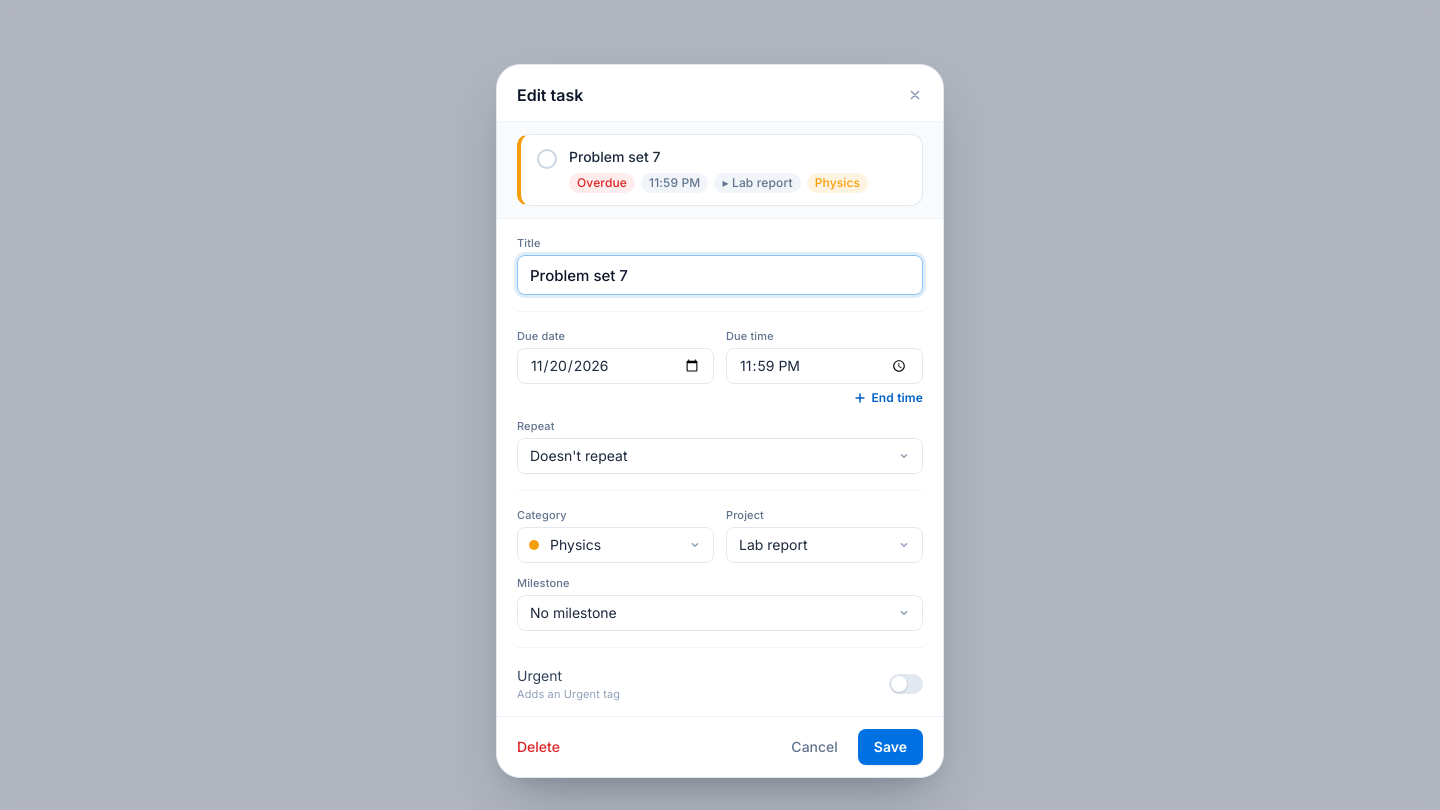
Test case: Edit item (desktop) › previews the row as the list will show it, and keeps the preview out of reach
The width and height of the screenshot is (1440, 810).
Expected: the text "Problem set 7" is shown, [569,148,660,165]
Expected: the text "Physics" is shown, [807,173,868,193]
Replace the text in the field labelled "Title" with "Problem set 8" at (720, 275), box [517,255,923,295]
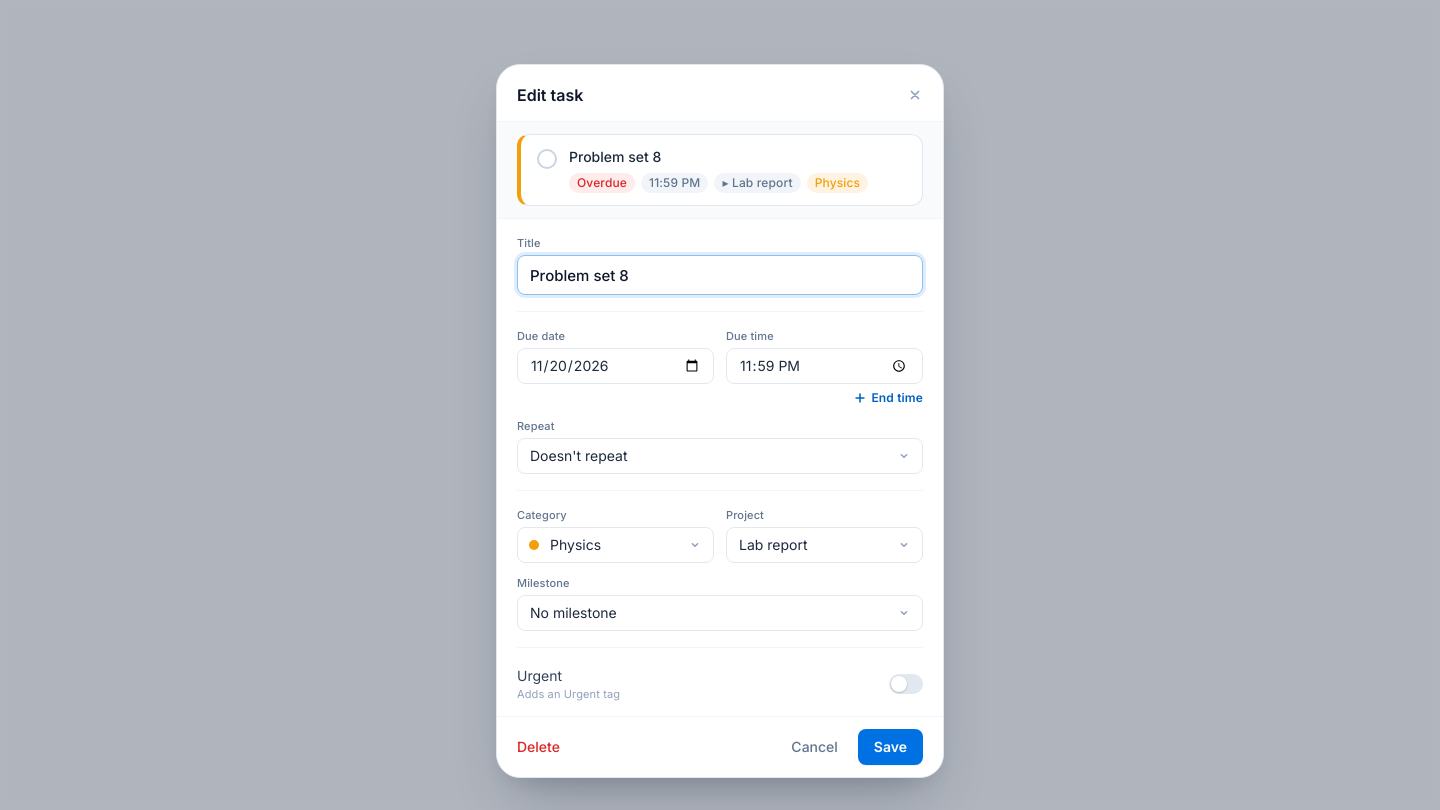
Click the switch labelled "Urgent Adds an Urgent tag" at (906, 684), box [889,674,923,694]
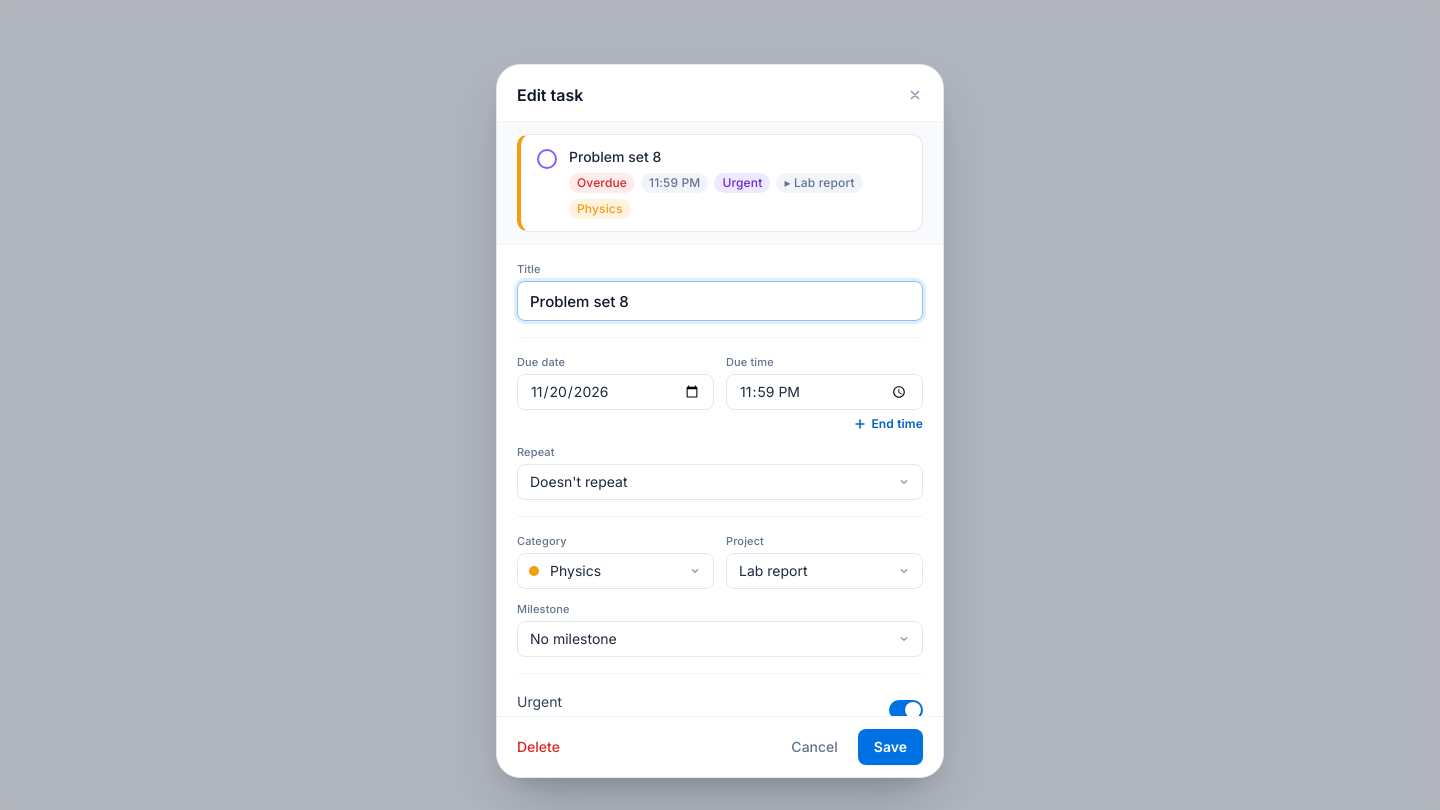
Select "General" in the dropdown labelled "Category" at (616, 571), box [517,553,714,589]
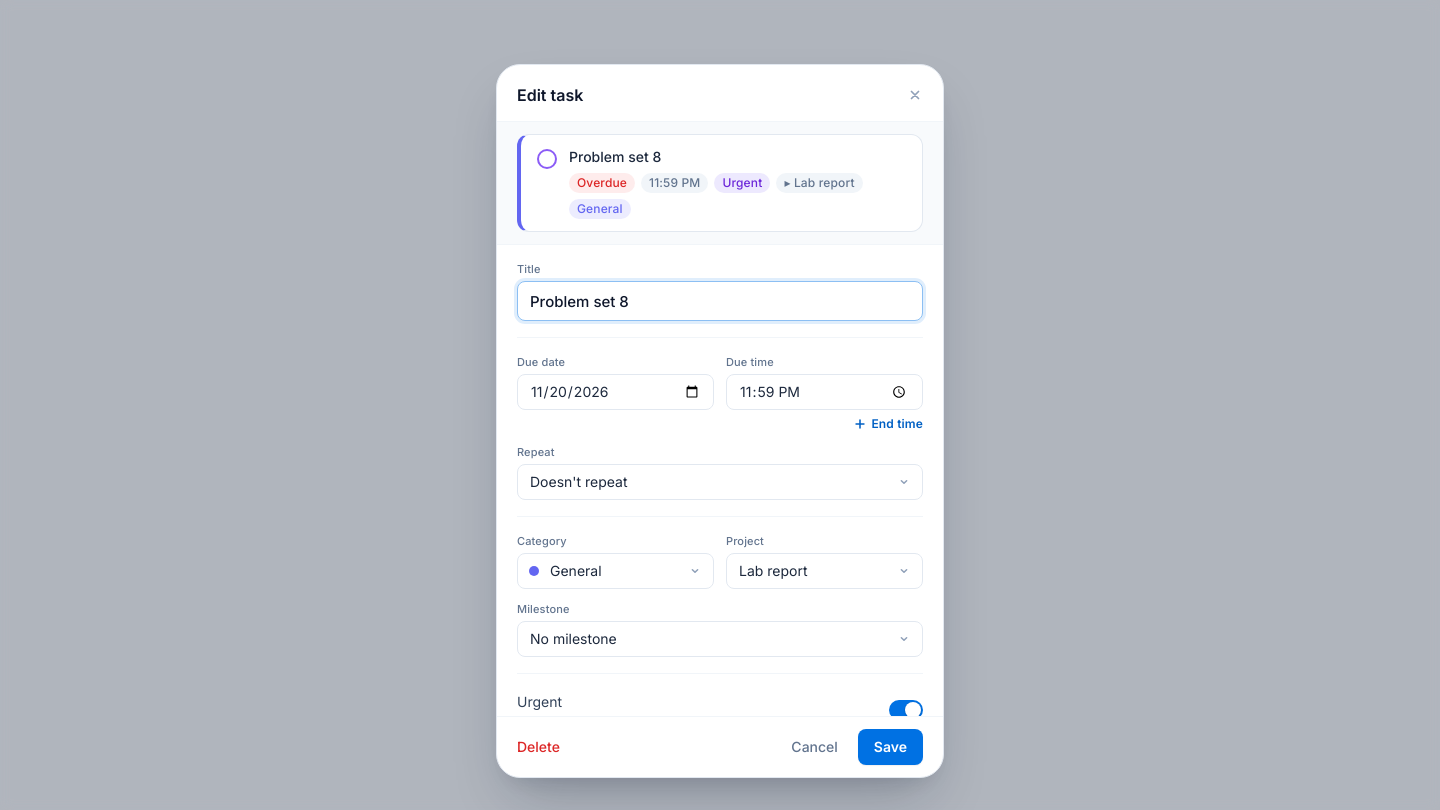
Select "Repeats weekly" in the dropdown labelled "Repeat" at (720, 482), box [517,464,923,500]
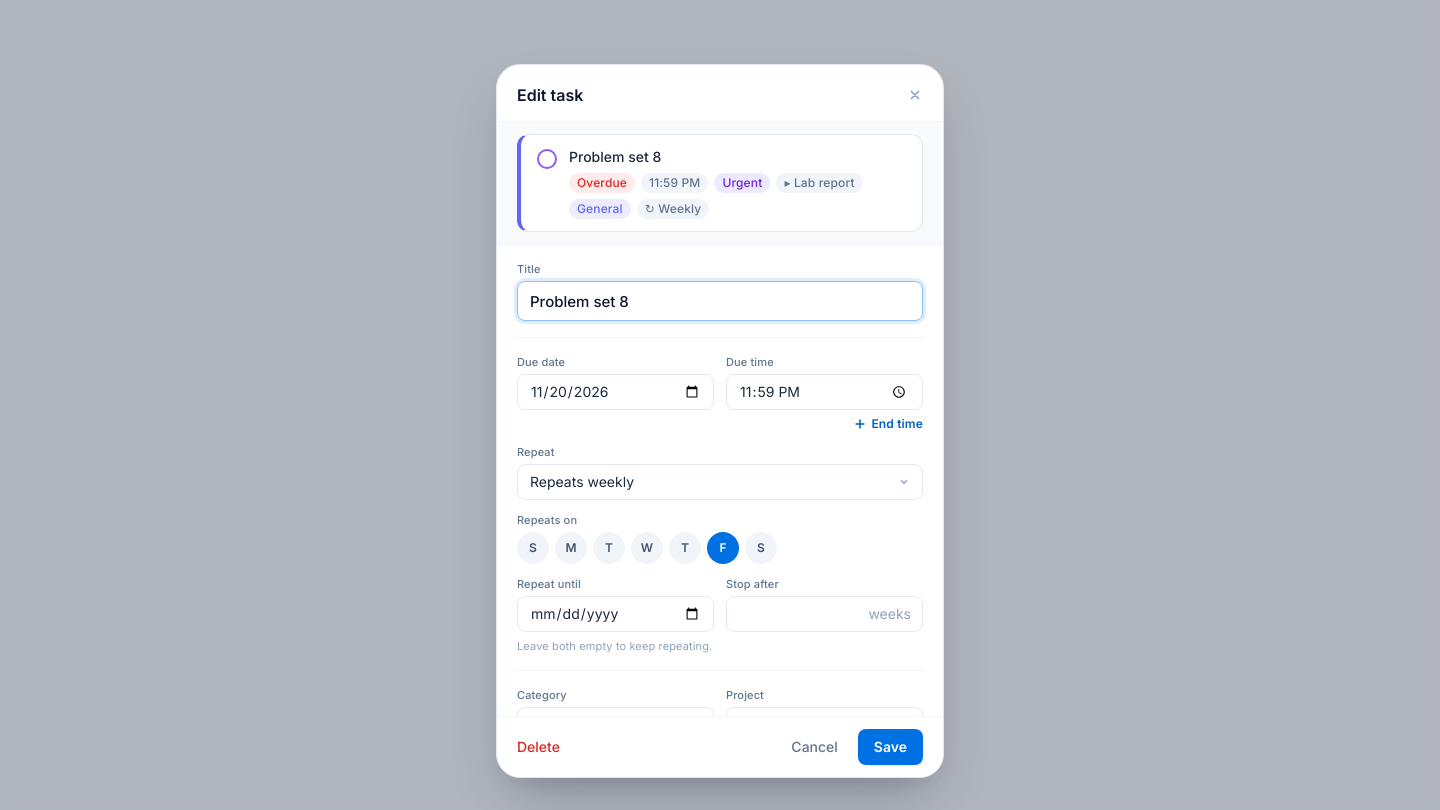
Expected: the text "Problem set 8" is shown, [569,148,661,165]
Expected: the text "General" is shown, [569,199,631,219]
Expected: the text "↻ weekly" is shown, [637,199,709,219]
